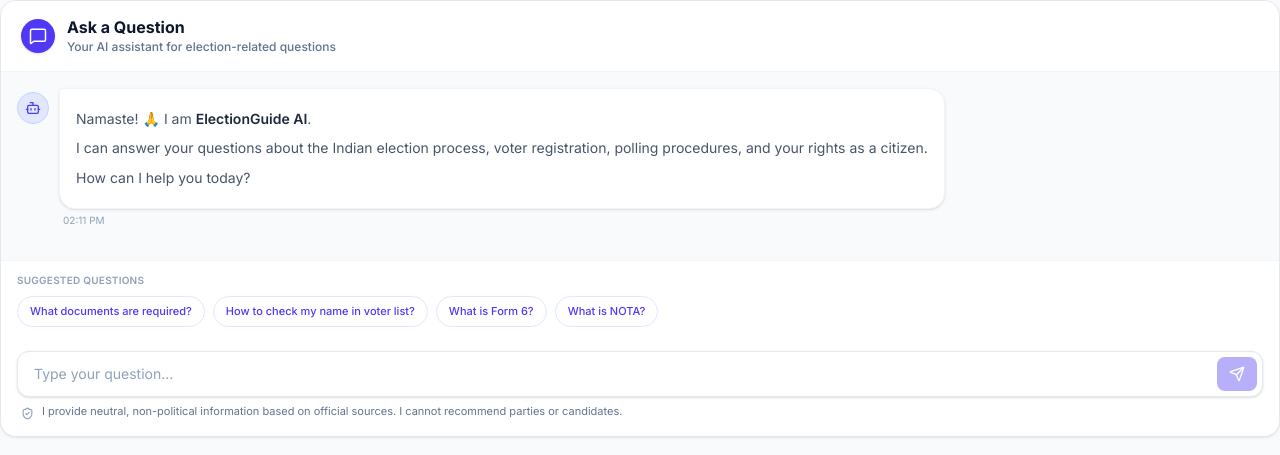
Test case: AskAi Component › Suggested questions › clicking a suggested question populates the input
Click the button with test id "suggested-question-btn". click: coordinates (111, 311)
box: [17, 296, 205, 327]
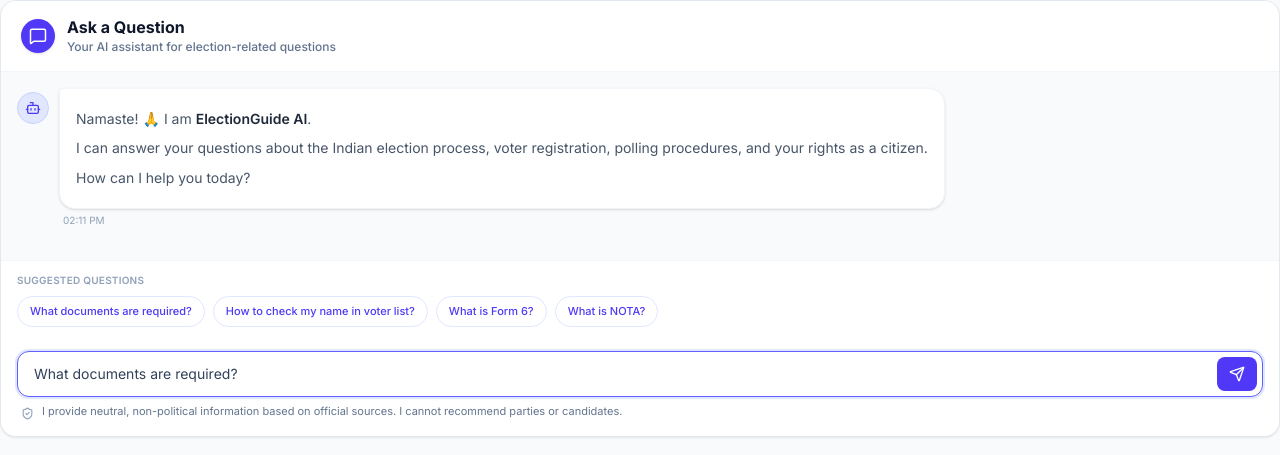
Now the field with test id "chat-input" holds "What documents are required?", box [17, 351, 1263, 397]
